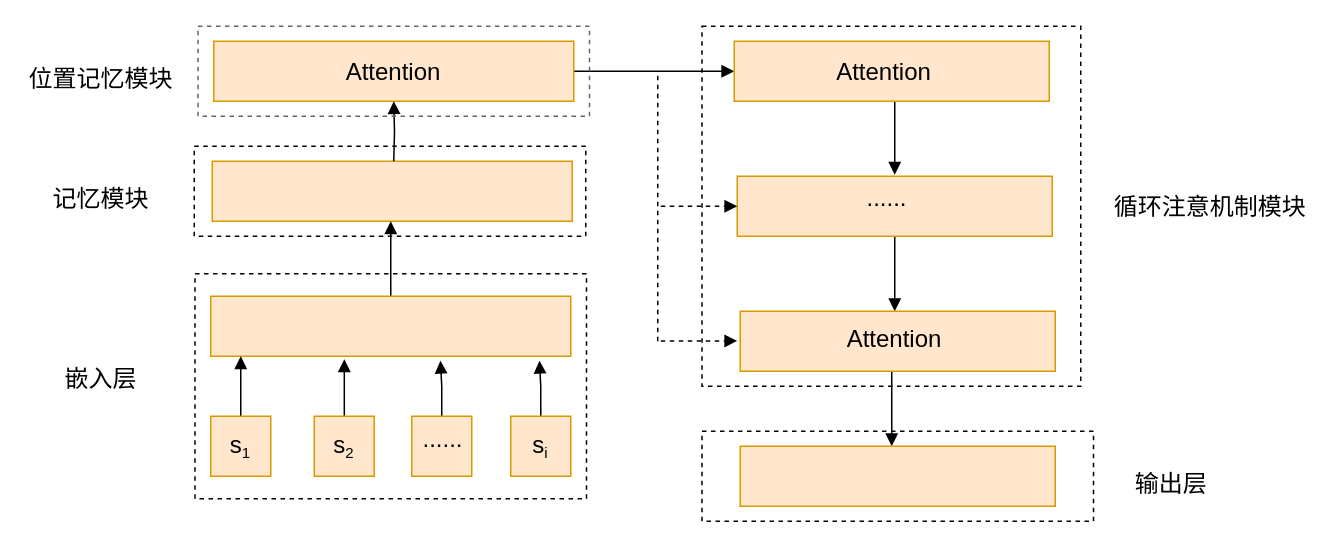
Some shapes in this 1335 by 548 pixel diagram are drawn without their labels. Each missing label, with the centre of its shape:
"BiGRU" goes at [391,190].
"Output" goes at [897,475].
"XLNet" goes at [390,325].
